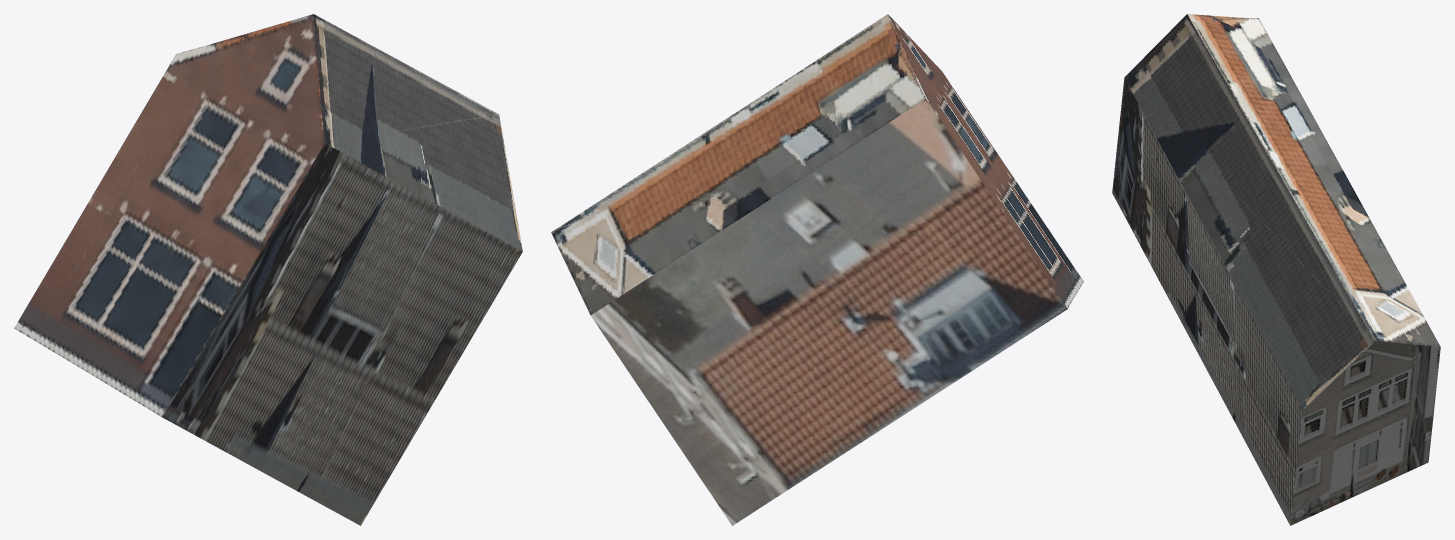
3 renders of one model, left to right at view 1: azimuth 30°, elevation 25°; view 2: azimuth 150°, elevation 25°; view 3: azimuth 270°, elevation 25°, orthographic. The views are drawn at different scales.
Visible parts, largest first — view 1: BAG_0599100000656923 (×3); view 2: BAG_0599100000656923 (×3); view 3: BAG_0599100000656923 (×3).
Part boxes in pixels (x1,y1,x2,y2): BAG_0599100000656923 (×3): [14, 14, 522, 525]; BAG_0599100000656923 (×3): [551, 14, 1083, 525]; BAG_0599100000656923 (×3): [1112, 14, 1440, 525].
Bounding box in the file's own units: 15.77 × 15.62 × 9.93.
1 material, 1 textured.
